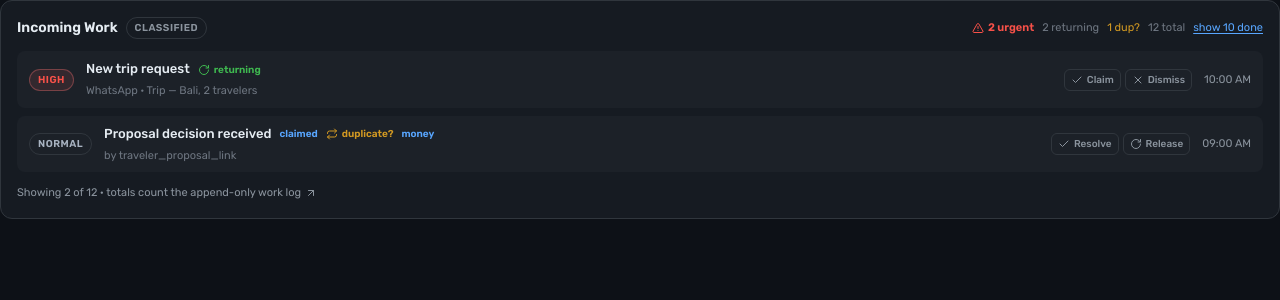
Test case: WorkQueuePanel › toggles the history reader: done rows appear with state badge and no actions
Click the button "show 10 done": (1228,28) [1193,19,1263,37]
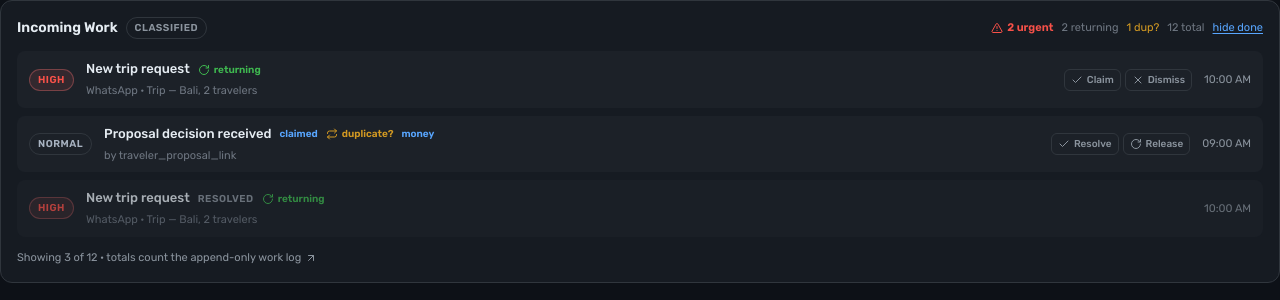
Now the button "hide done" is shown, box [1212,19,1263,37]
Now the list item "resolved" is shown, box [198,193,254,205]
